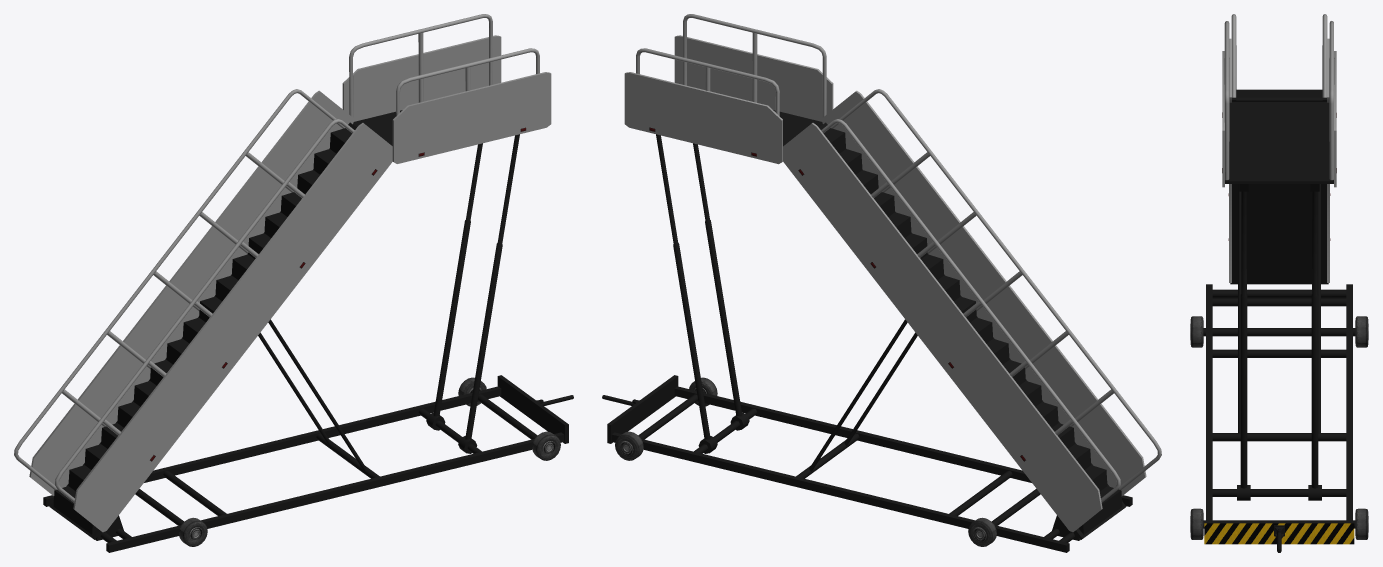
File: ladder_a.FBX
3 views of the same model, side by side, from view 1: azimuth 30°, elevation 25°; view 2: azimuth 150°, elevation 25°; view 3: azimuth 270°, elevation 25° (orthographic). The views are drawn at different scales.
Parts seen in each view (by area): view 1: Box001s; view 2: Box001s; view 3: Box001s, Cylinder011c, Cylinder017c, Cylinder015c, Cylinder016c.
Boxes of the visible parts, x1,y1,x2,y2 form: Box001s: (14, 14, 568, 552); Box001s: (607, 14, 1161, 552); Box001s: (1203, 14, 1355, 544); Cylinder011c: (1190, 316, 1203, 347); Cylinder017c: (1355, 316, 1368, 347); Cylinder015c: (1190, 508, 1203, 539); Cylinder016c: (1355, 508, 1368, 539).
Size of the model in its own units: 49.85 by 35.52 by 12.79.
